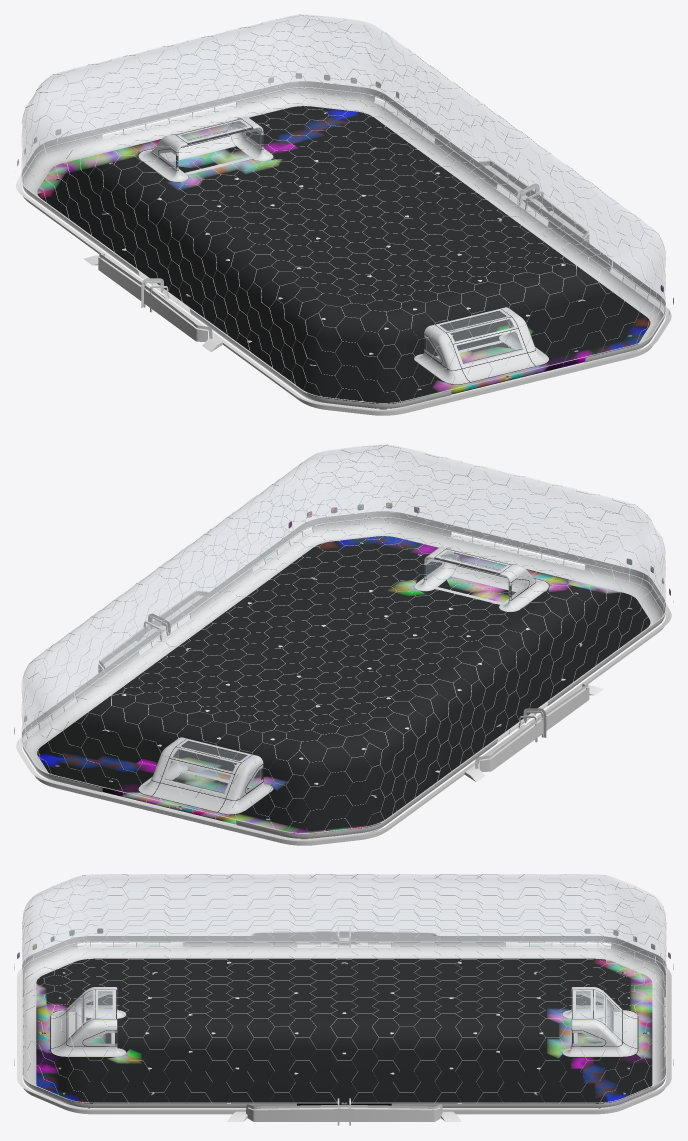
The model's file is ThrowbackStadium_Field_WhiteModel.glb.
3 views of the same model, one above another, from view 1: azimuth 30°, elevation 25°; view 2: azimuth 150°, elevation 25°; view 3: azimuth 270°, elevation 25° (orthographic). The views are drawn at different scales.
Visible parts, largest first — view 1: Grass_Plane_0_0, LongField_ForceField_25_0, LongField_ForceField_20_0, LongField_ForceField_13_0, LongField_ForceField_33_0, LongField_FFCage_Full_3_0, LongField_FFCage_Full_2_0, LongField_STD_Glow_45_0, LongField_Side_Frame_56_0, LongField_FFCage_Full_4_0, LongField_FFCage_Full_1_0, LongField_STD_Glow_58_0 (+19 smaller); view 2: Grass_Plane_0_0, LongField_ForceField_13_0, LongField_ForceField_33_0, LongField_ForceField_25_0, LongField_ForceField_20_0, LongField_FFCage_Full_2_0, LongField_FFCage_Full_3_0, LongField_STD_Glow_58_0, LongField_Side_Frame_19_0, LongField_FFCage_Full_1_0, LongField_FFCage_Full_4_0, LongField_STD_Glow_45_0 (+19 smaller); view 3: Grass_Plane_0_0, LongField_ForceField_20_0, LongField_ForceField_33_0, LongField_ForceField_13_0, LongField_ForceField_25_0, LongField_FFCage_Full_3_0, LongField_FFCage_Full_2_0, LongField_FFCage_Full_4_0, LongField_FFCage_Full_1_0, LongField_Side_Frame_61_0, LongField_Side_Frame_52_0, LongField_STD_Glow_58_0 (+27 smaller).
Part boxes in pixels (x1,y1,x2,y2): Grass_Plane_0_0: (37, 106, 650, 409); LongField_ForceField_25_0: (165, 164, 517, 402); LongField_ForceField_20_0: (345, 125, 664, 371); LongField_ForceField_13_0: (22, 44, 342, 292); LongField_ForceField_33_0: (178, 15, 514, 162); LongField_FFCage_Full_3_0: (164, 166, 518, 402); LongField_FFCage_Full_2_0: (21, 44, 335, 285); LongField_STD_Glow_45_0: (16, 81, 524, 293); LongField_Side_Frame_56_0: (170, 94, 521, 215); LongField_FFCage_Full_4_0: (169, 14, 523, 190); LongField_FFCage_Full_1_0: (351, 124, 665, 371); LongField_STD_Glow_58_0: (163, 198, 671, 411); Grass_Plane_0_0: (37, 536, 650, 839); LongField_ForceField_13_0: (170, 594, 522, 832); LongField_ForceField_33_0: (22, 555, 341, 802); LongField_ForceField_25_0: (345, 474, 664, 722); LongField_ForceField_20_0: (174, 445, 508, 592); LongField_FFCage_Full_2_0: (169, 596, 523, 832); LongField_FFCage_Full_3_0: (351, 474, 665, 715); LongField_STD_Glow_58_0: (162, 511, 671, 723); LongField_Side_Frame_19_0: (166, 524, 517, 646); LongField_FFCage_Full_1_0: (164, 444, 517, 619); LongField_FFCage_Full_4_0: (21, 554, 335, 801); LongField_STD_Glow_45_0: (16, 628, 524, 841); Grass_Plane_0_0: (36, 958, 652, 1108); LongField_ForceField_20_0: (23, 947, 343, 1104); LongField_ForceField_33_0: (345, 947, 665, 1104); LongField_ForceField_13_0: (344, 874, 665, 967); LongField_ForceField_25_0: (23, 874, 343, 965); LongField_FFCage_Full_3_0: (22, 874, 343, 973); LongField_FFCage_Full_2_0: (344, 874, 666, 973); LongField_FFCage_Full_4_0: (344, 946, 666, 1103); LongField_FFCage_Full_1_0: (22, 946, 343, 1102); LongField_Side_Frame_61_0: (24, 947, 344, 1033); LongField_Side_Frame_52_0: (344, 947, 664, 1033); LongField_STD_Glow_58_0: (17, 936, 337, 1110).
Size of the model in its own units: 91.2 by 21.63 by 142.
